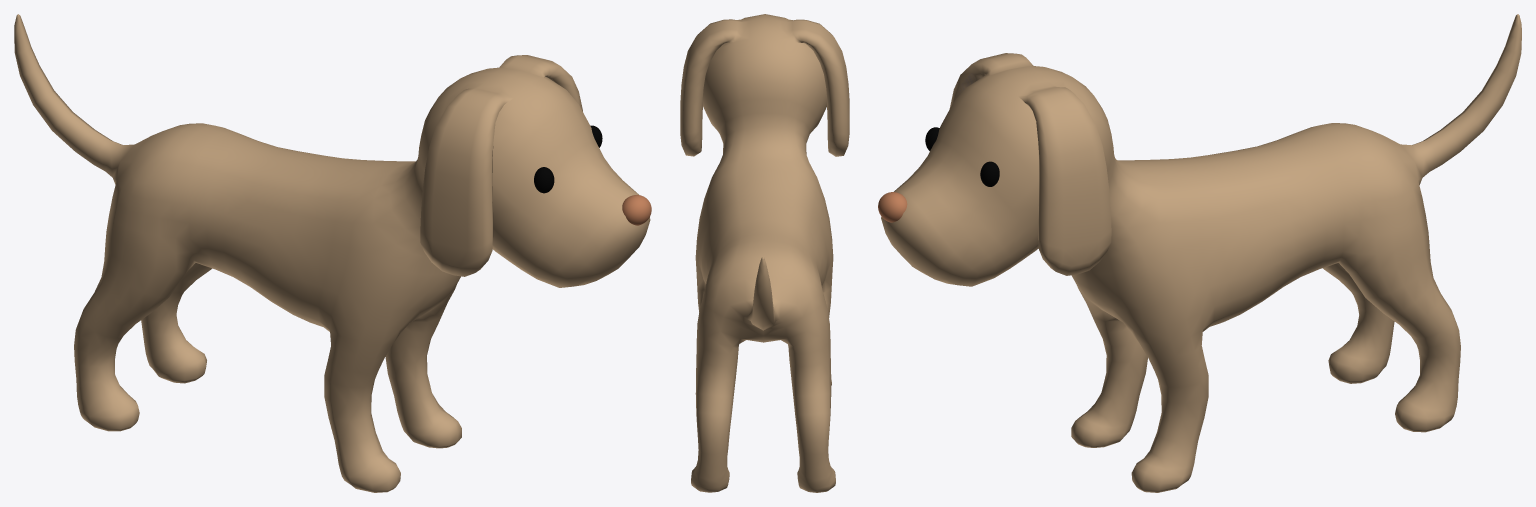
Rendered from dog.glb.
The picture shows the model from 3 angles, left to right: view 1: azimuth 30°, elevation 25°; view 2: azimuth 150°, elevation 25°; view 3: azimuth 270°, elevation 25°; orthographic projection. The views are drawn at different scales.
Visible parts, largest first — view 1: mesh_id30, mesh_id40; view 2: mesh_id30; view 3: mesh_id30, mesh_id40.
Part boxes in pixels (x1=…): mesh_id30: x1=14, y1=14, x2=650, y2=492; mesh_id40: x1=622, y1=195, x2=651, y2=225; mesh_id30: x1=680, y1=14, x2=849, y2=492; mesh_id30: x1=881, y1=14, x2=1521, y2=492; mesh_id40: x1=878, y1=192, x2=907, y2=222.
Bounding box in the file's own units: 0.2363 × 0.2689 × 0.3782.
Materials: 4 (4 with a texture image).
